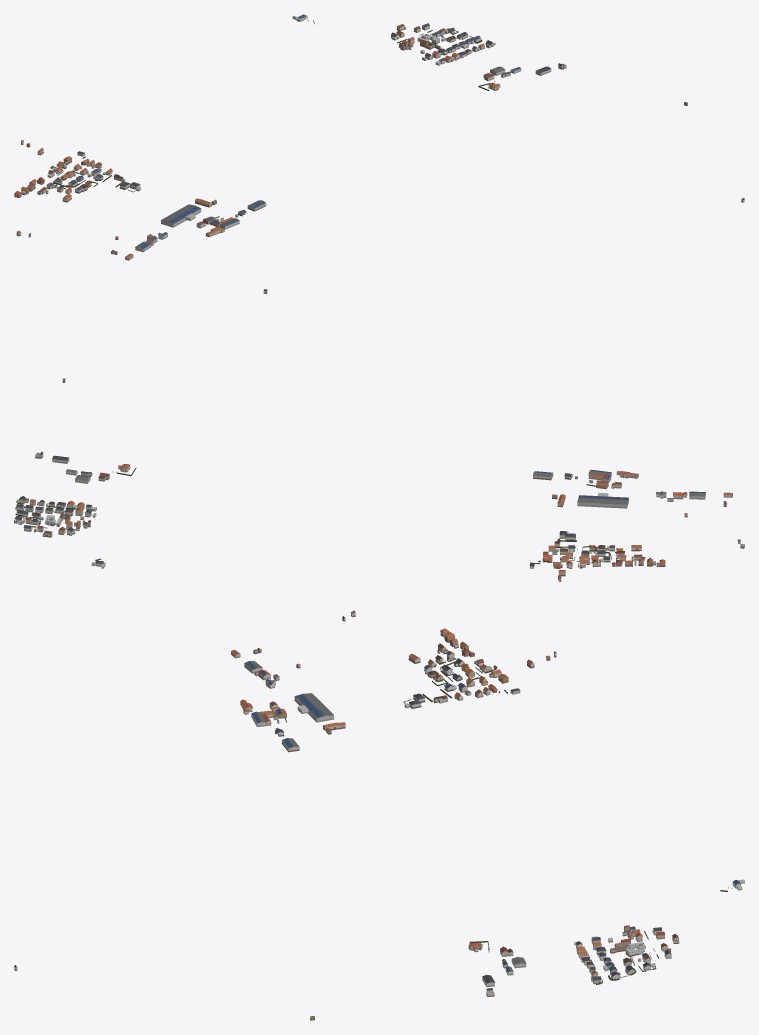
The model's file is village_outskirts.glb.
The picture shows the model from 3 angles, top to bottom: view 1: azimuth 30°, elevation 25°; view 2: azimuth 150°, elevation 25°; view 3: azimuth 270°, elevation 25°; orthographic projection. The views are drawn at different scales.
Visible parts, largest first — view 1: village_outskirts; view 2: village_outskirts; view 3: village_outskirts.
Boxes of the visible parts, x1=… form: village_outskirts: x1=14, y1=14, x2=744, y2=260; village_outskirts: x1=14, y1=289, x2=744, y2=581; village_outskirts: x1=14, y1=610, x2=744, y2=1020.
Size of the model in its own units: 1570 by 83.84 by 1256.
Materials: 42 (37 with a texture image).
